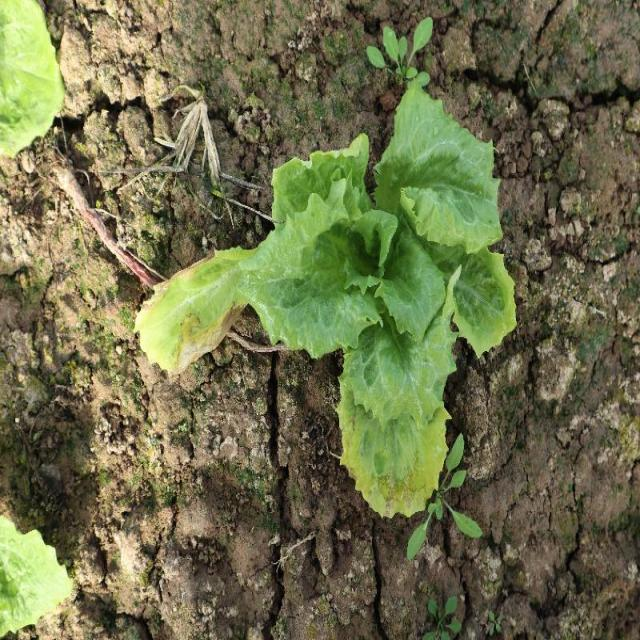crop: (133, 75, 518, 520)
